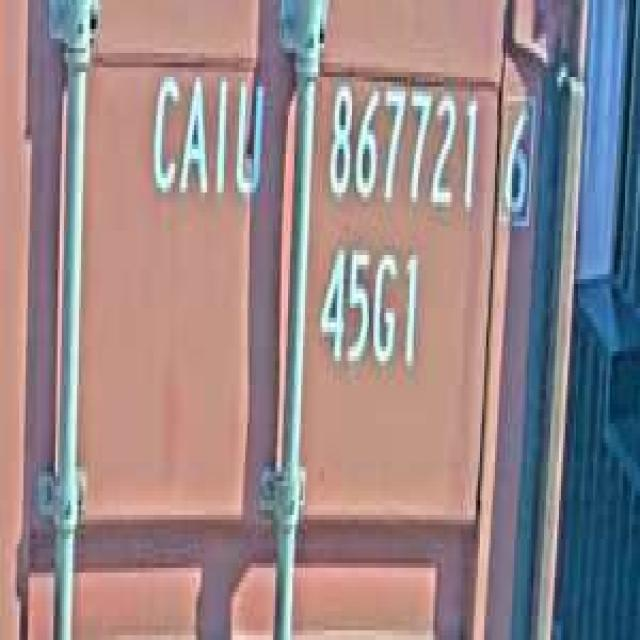dv: (499, 87, 538, 226)
owner: (143, 62, 267, 216)
serial: (322, 77, 480, 226)
size: (314, 231, 422, 385)
